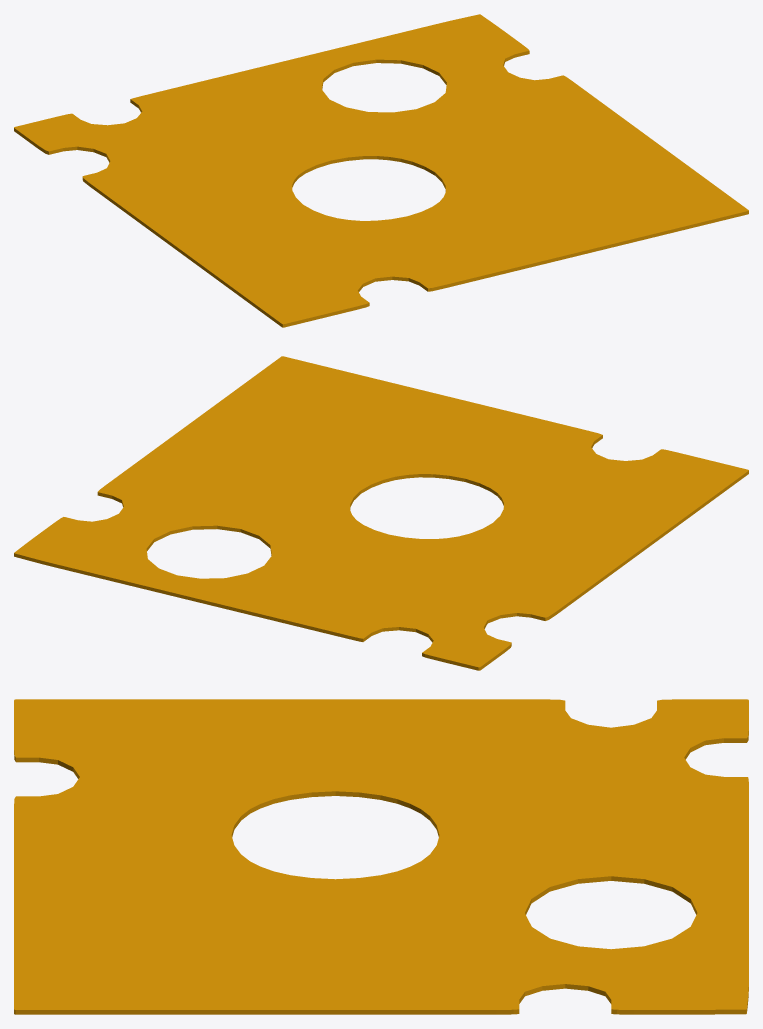
The model's file is swisscheese.FBX.
3 renders of one model, top to bottom at view 1: azimuth 30°, elevation 25°; view 2: azimuth 150°, elevation 25°; view 3: azimuth 270°, elevation 25°, orthographic. The views are drawn at different scales.
Parts seen in each view (by area): view 1: Plane_001; view 2: Plane_001; view 3: Plane_001.
Boxes of the visible parts, x1,y1,x2,y2 form: Plane_001: (14, 14, 748, 327); Plane_001: (14, 356, 748, 670); Plane_001: (14, 699, 748, 1014).
Bounding box in the file's own units: 0.000978 × 6.85e-06 × 0.000978.
